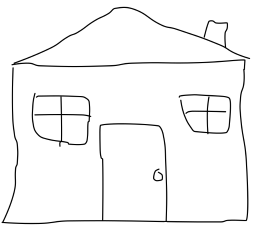big_house: (1, 1, 260, 226)
chimney: (201, 14, 233, 54)
closed_window: (25, 87, 96, 149), (176, 87, 236, 141)
door: (94, 117, 171, 225)
roof: (2, 4, 250, 69)
wall: (4, 56, 256, 226)
